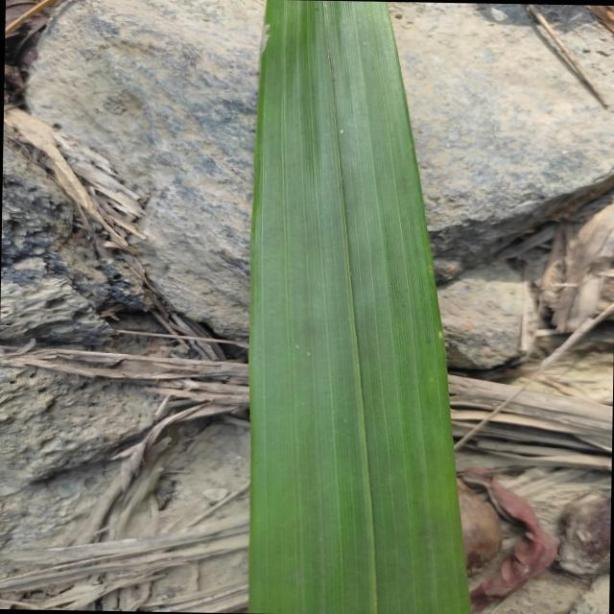Healthy: (246, 0, 470, 614)
